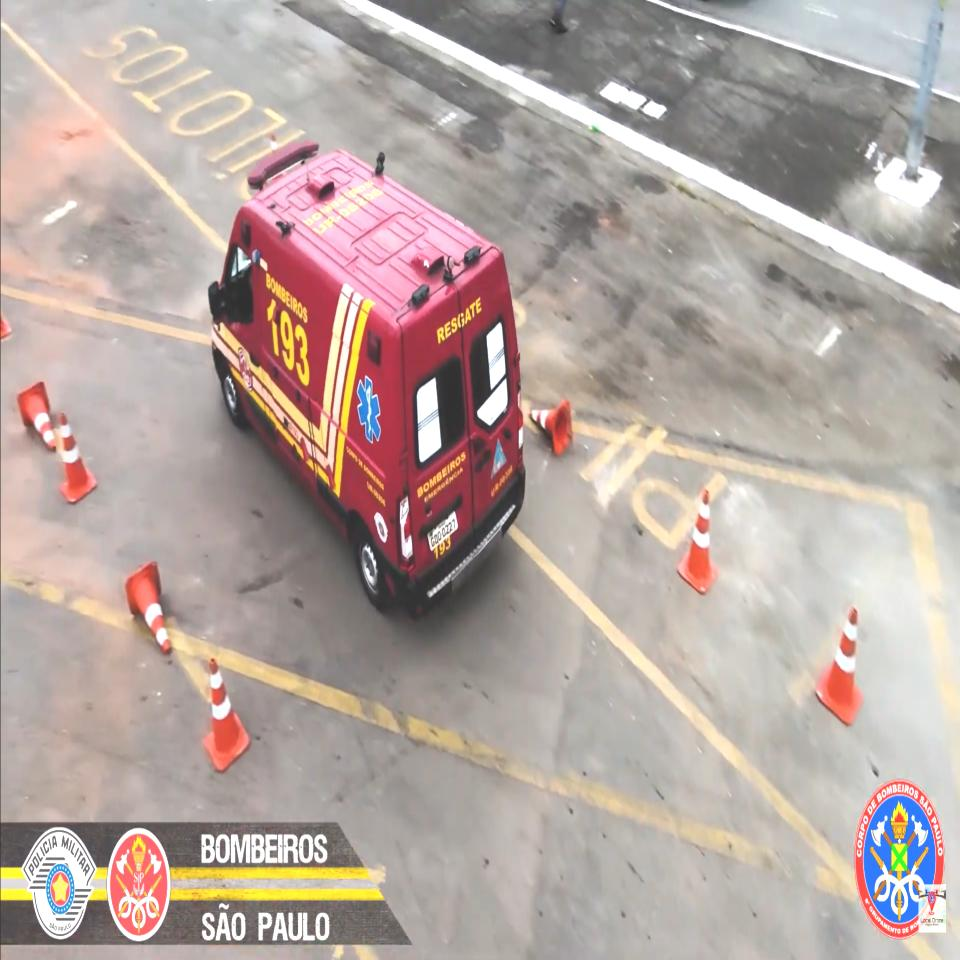bombeiro: (206, 132, 530, 624)
